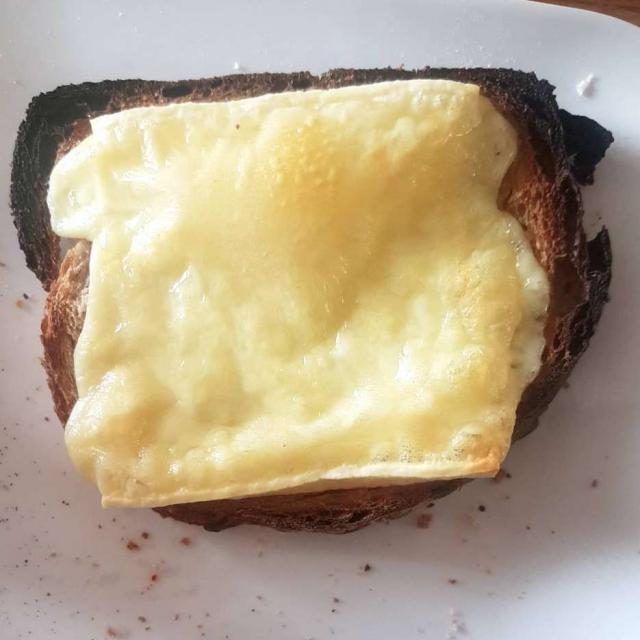bread: (43, 75, 595, 525)
cheese: (58, 78, 534, 514)
